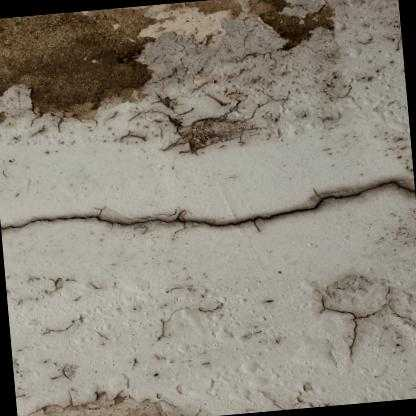crack: (1, 180, 415, 228)
